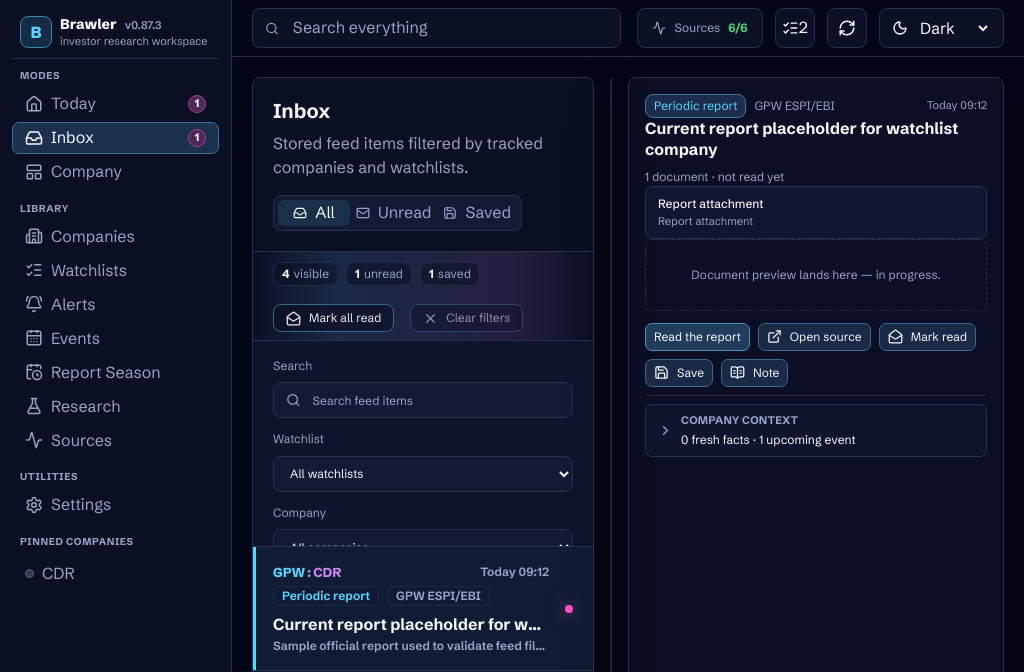
Test: MCP server settings (M4, ADR 0078) › commits the listen port on blur through update_settings, clamped
Click the button "Settings" at [116, 505], box [12,489,219,521]
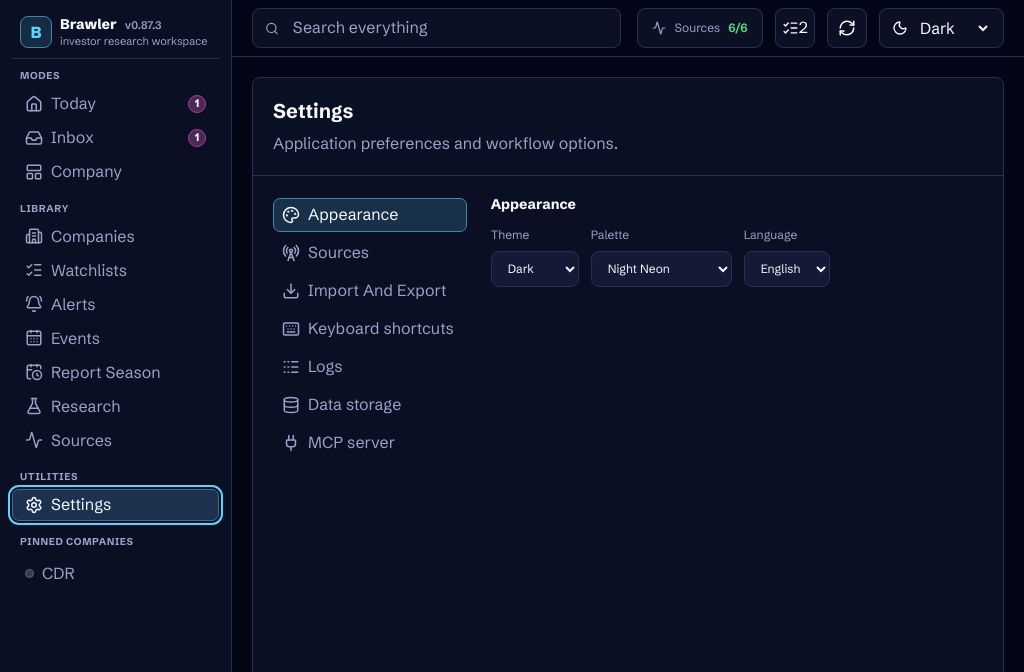
Click the button "MCP server" at [370, 443], box [273,426,467,460]
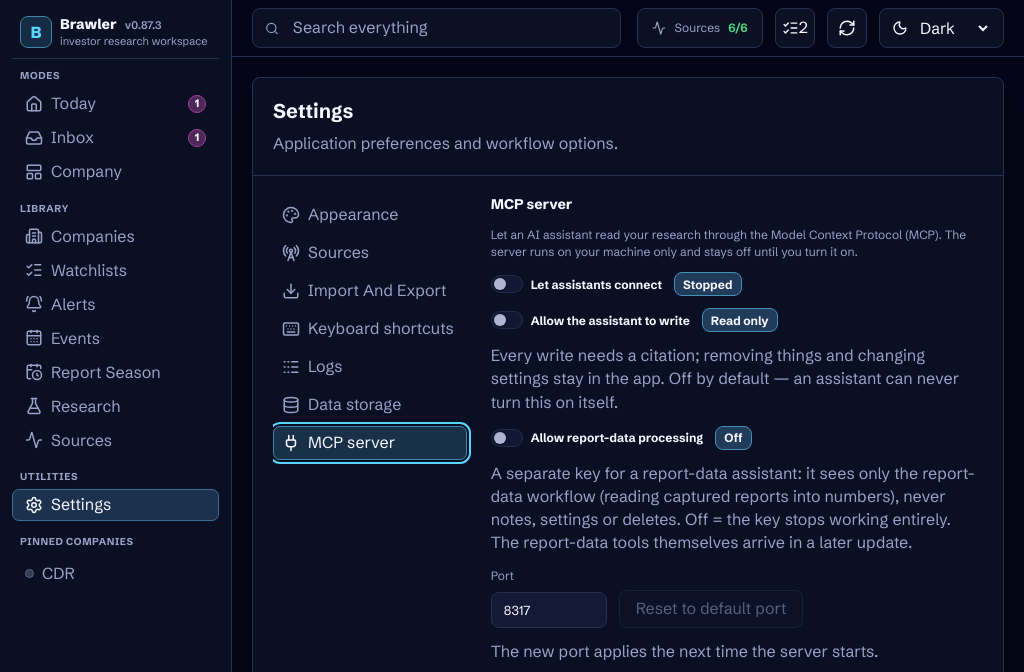
Replace the text in the number field labelled "Port" with "9000" at [549, 610], box [491,592,607,628]
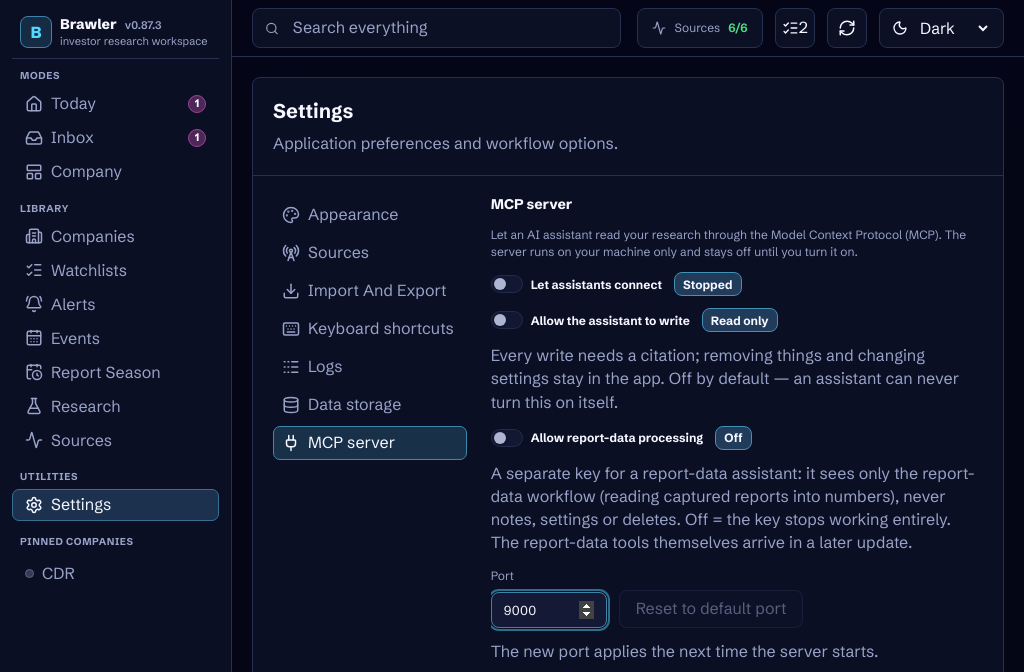
Press Tab
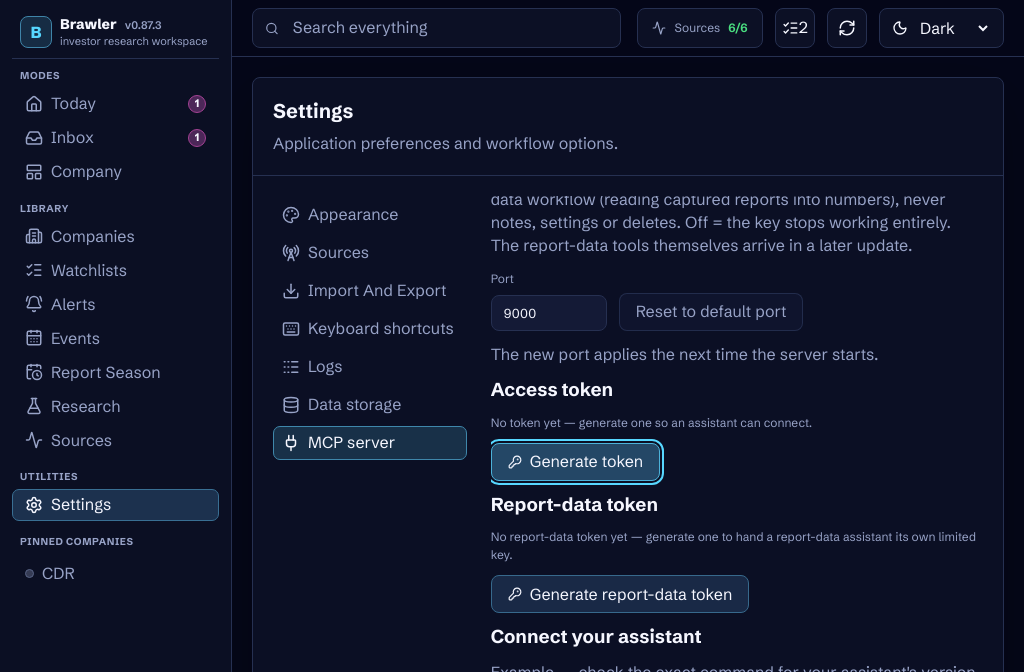
Replace the text in the number field labelled "Port" with "70000" at [549, 313], box [491,295,607,331]
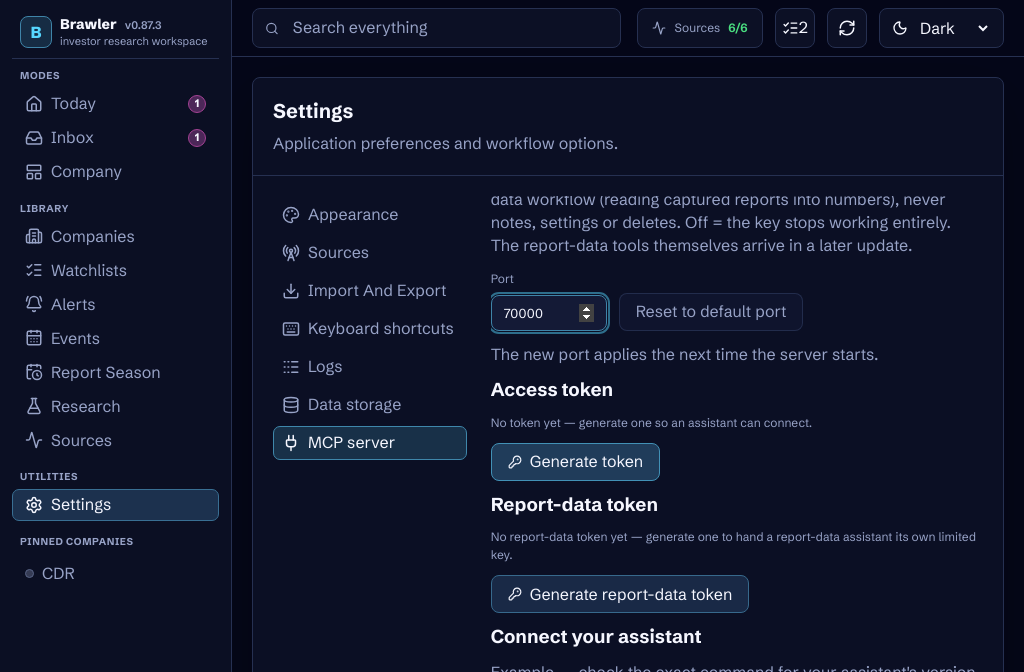
Press Tab
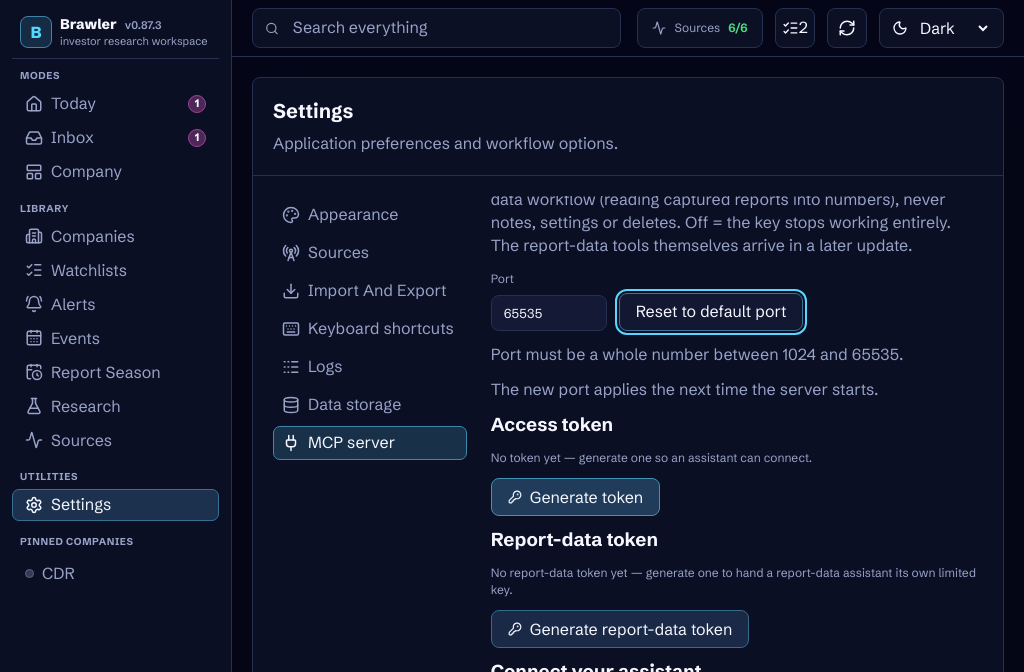
expect the text "Port must be a whole number between 1024 and 65535." is shown: met, box [491,344,903,364]
